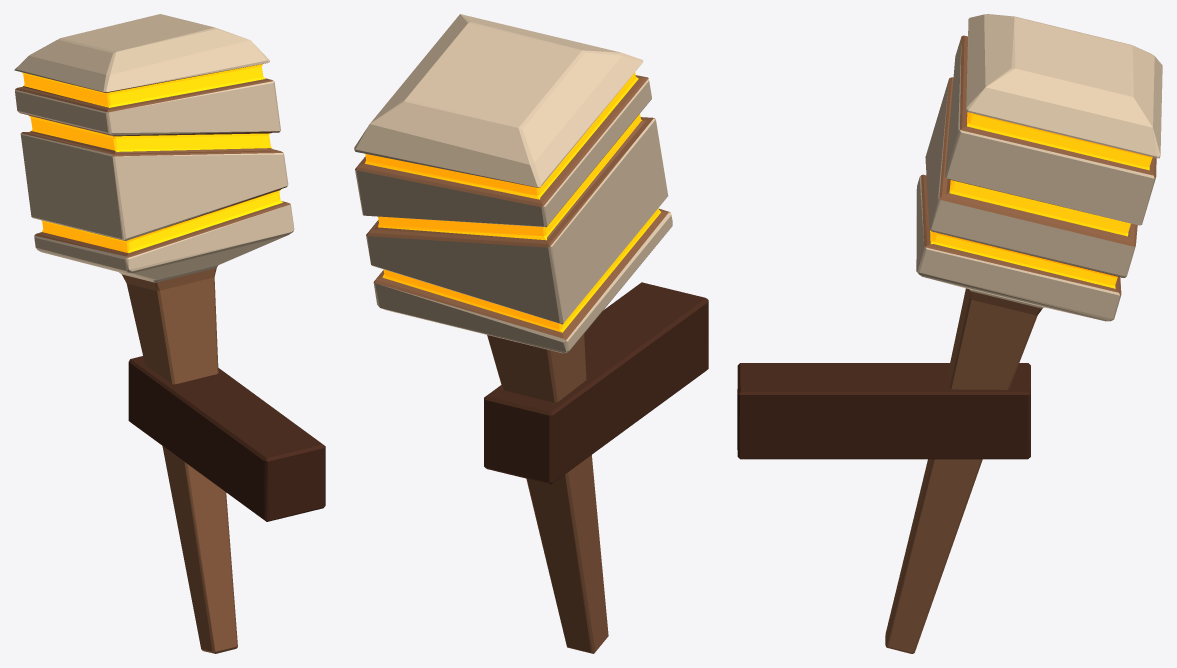
Rendered from Torch_Unity.fbx.
The picture shows the model from 3 angles, left to right: view 1: azimuth 30°, elevation 25°; view 2: azimuth 150°, elevation 25°; view 3: azimuth 270°, elevation 25°; orthographic projection. The views are drawn at different scales.
Visible parts, largest first — view 1: Cube; view 2: Cube; view 3: Cube.
Boxes of the visible parts, x1,y1,x2,y2 form: Cube: [14, 14, 325, 653]; Cube: [354, 14, 708, 653]; Cube: [737, 14, 1162, 653].
Bounding box in the file's own units: 39.55 × 129 × 82.11.
